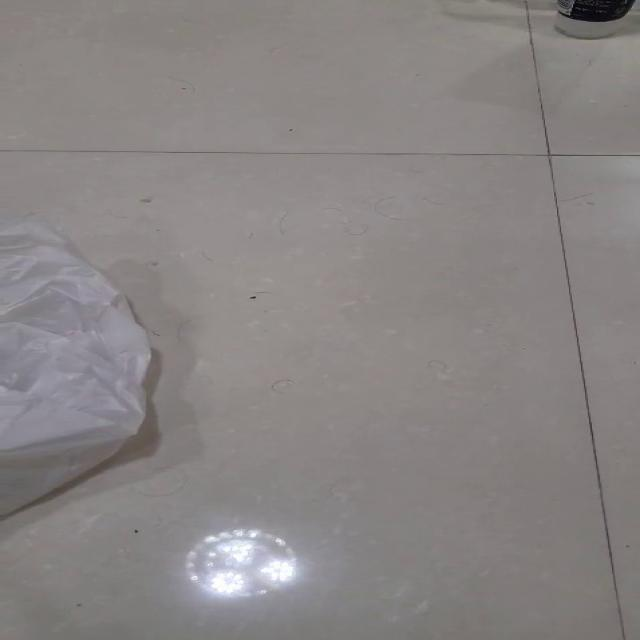plastic: (0, 215, 153, 518)
